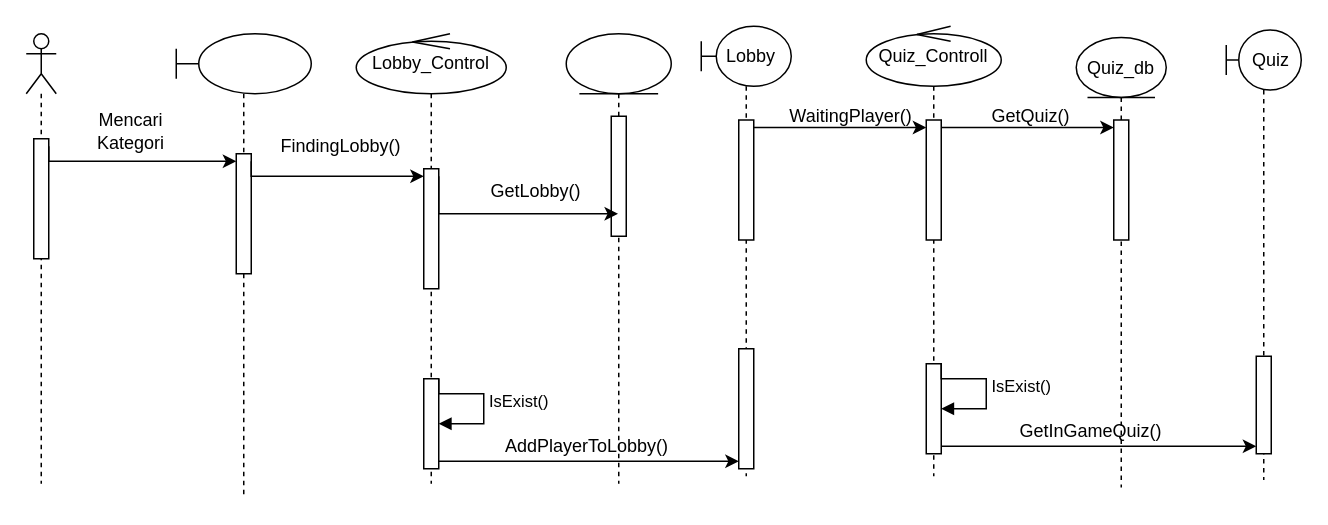
Some shapes in this 1328 by 525 pixel diagram are drawn without their labels. Here are the shapes that lost their labels. From the top down, the centre of each, then its label:
At pixel 243 265: "Quiz_Menu".
At pixel 618 258: "Lobby_Db".
